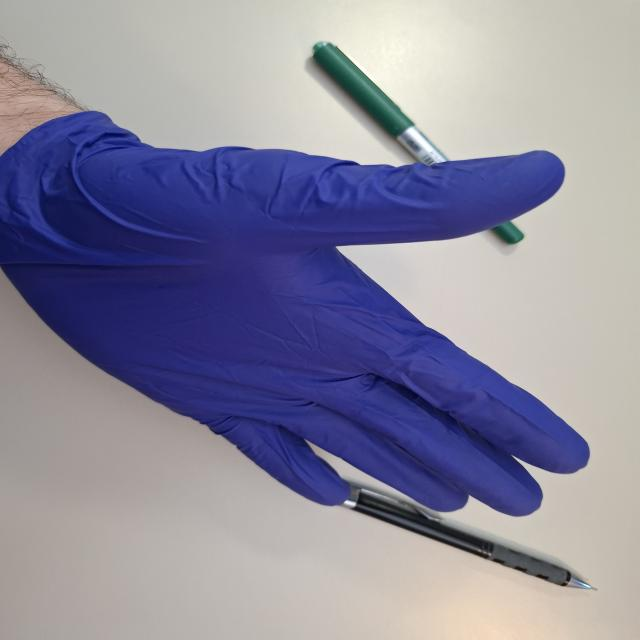glove_on: (0, 103, 599, 520)
